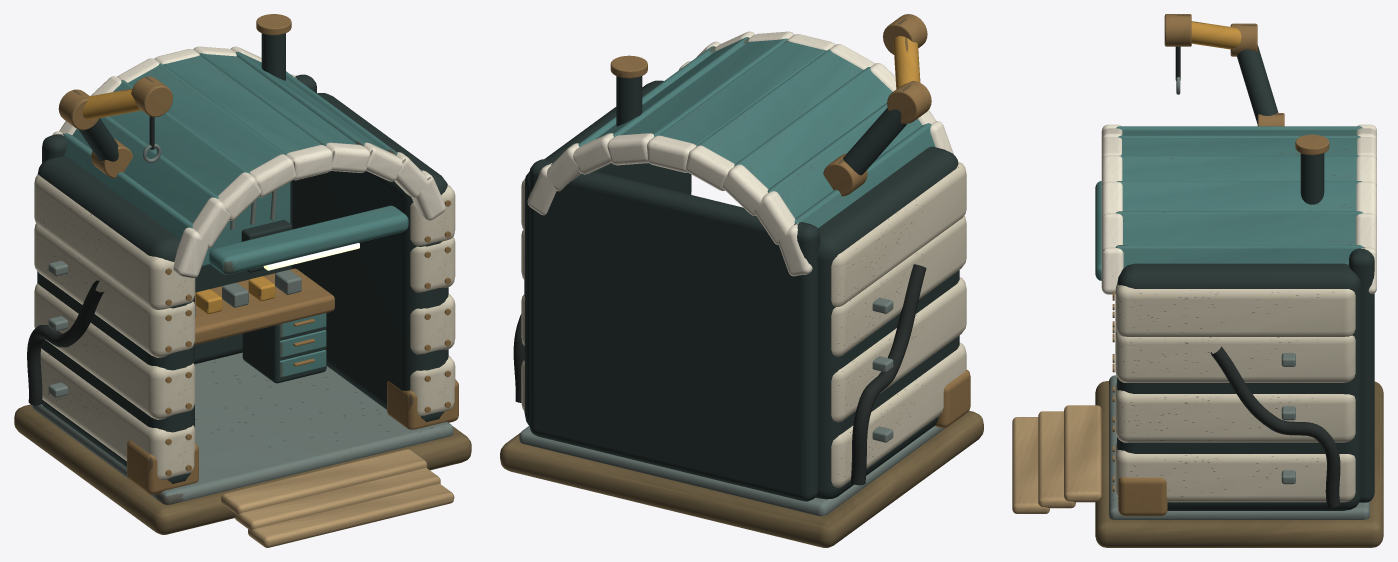
Rendered from prop_workshop.glb.
The picture shows the model from 3 angles, left to right: view 1: azimuth 30°, elevation 25°; view 2: azimuth 150°, elevation 25°; view 3: azimuth 270°, elevation 25°; orthographic projection. The views are drawn at different scales.
Visible parts, largest first — view 1: prop_workshop_dark, prop_workshop_ivory, prop_workshop_teal, prop_workshop_steel, prop_workshop_brass, prop_workshop_stone_light, prop_workshop_ivory_light, Foundation, prop_workshop_rubber, prop_workshop_ochre, Entry lamp; view 2: prop_workshop_dark, prop_workshop_teal, prop_workshop_ivory, Foundation, prop_workshop_ivory_light, prop_workshop_steel, prop_workshop_brass, prop_workshop_rubber, prop_workshop_ochre; view 3: prop_workshop_ivory, prop_workshop_teal, prop_workshop_dark, Foundation, prop_workshop_stone_light, prop_workshop_ivory_light, prop_workshop_brass, prop_workshop_steel, prop_workshop_rubber, prop_workshop_ochre.
Boxes of the visible parts, bbox=[...] form: prop_workshop_dark: bbox=[37, 33, 448, 483]; prop_workshop_ivory: bbox=[34, 174, 455, 479]; prop_workshop_teal: bbox=[64, 51, 422, 377]; prop_workshop_steel: bbox=[32, 143, 453, 504]; prop_workshop_brass: bbox=[58, 14, 458, 494]; prop_workshop_stone_light: bbox=[221, 449, 454, 547]; prop_workshop_ivory_light: bbox=[52, 46, 445, 278]; Foundation: bbox=[14, 404, 471, 534]; prop_workshop_rubber: bbox=[27, 116, 154, 405]; prop_workshop_ochre: bbox=[82, 88, 275, 314]; Entry lamp: bbox=[263, 243, 359, 270]; prop_workshop_dark: bbox=[524, 76, 959, 501]; prop_workshop_teal: bbox=[552, 37, 935, 227]; prop_workshop_ivory: bbox=[521, 161, 966, 487]; Foundation: bbox=[500, 410, 983, 547]; prop_workshop_ivory_light: bbox=[527, 31, 953, 276]; prop_workshop_steel: bbox=[519, 297, 945, 516]; prop_workshop_brass: bbox=[610, 14, 970, 427]; prop_workshop_rubber: bbox=[513, 264, 926, 485]; prop_workshop_ochre: bbox=[893, 36, 920, 88]; prop_workshop_ivory: bbox=[1115, 285, 1355, 502]; prop_workshop_teal: bbox=[1095, 126, 1362, 280]; prop_workshop_dark: bbox=[1117, 45, 1374, 510]; Foundation: bbox=[1095, 381, 1383, 547]; prop_workshop_stone_light: bbox=[1012, 405, 1101, 513]; prop_workshop_ivory_light: bbox=[1101, 124, 1376, 294]; prop_workshop_brass: bbox=[1112, 14, 1329, 516]; prop_workshop_steel: bbox=[1109, 77, 1369, 519]; prop_workshop_rubber: bbox=[1175, 46, 1340, 507]; prop_workshop_ochre: bbox=[1191, 21, 1241, 49].
Size of the model in its own units: 3.24 by 3.79 by 3.15.
12 materials, 8 textured.
